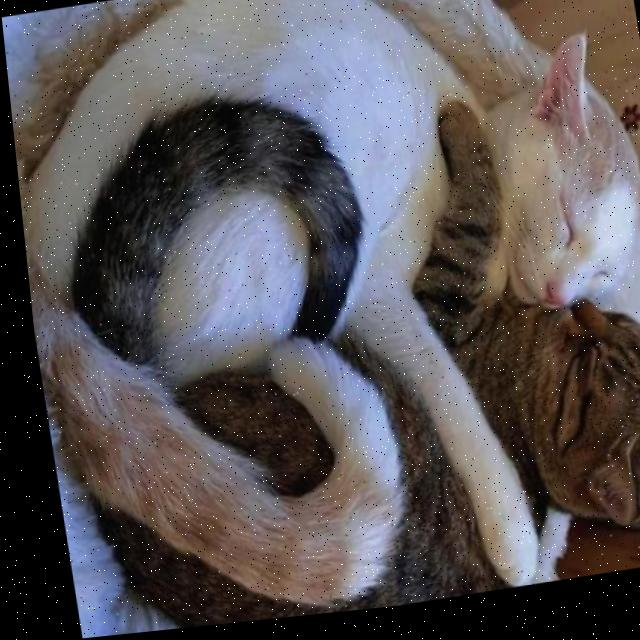Cats: (0, 0, 640, 393), (30, 286, 640, 640)
